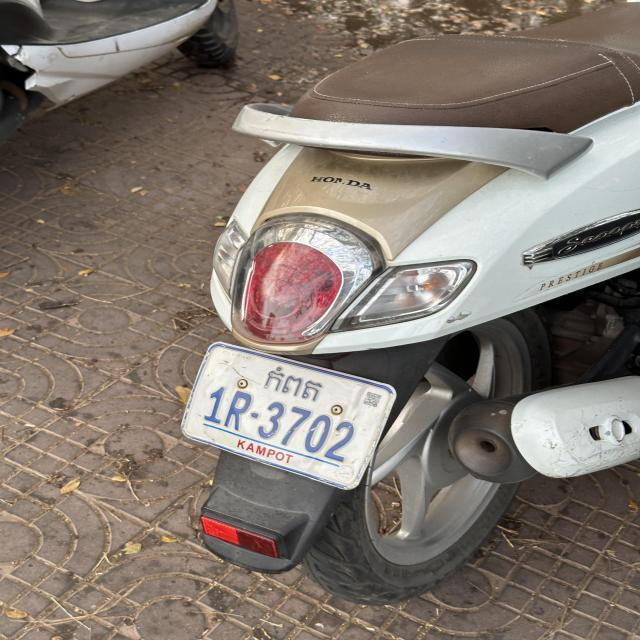Kampot: (262, 362, 322, 404)
